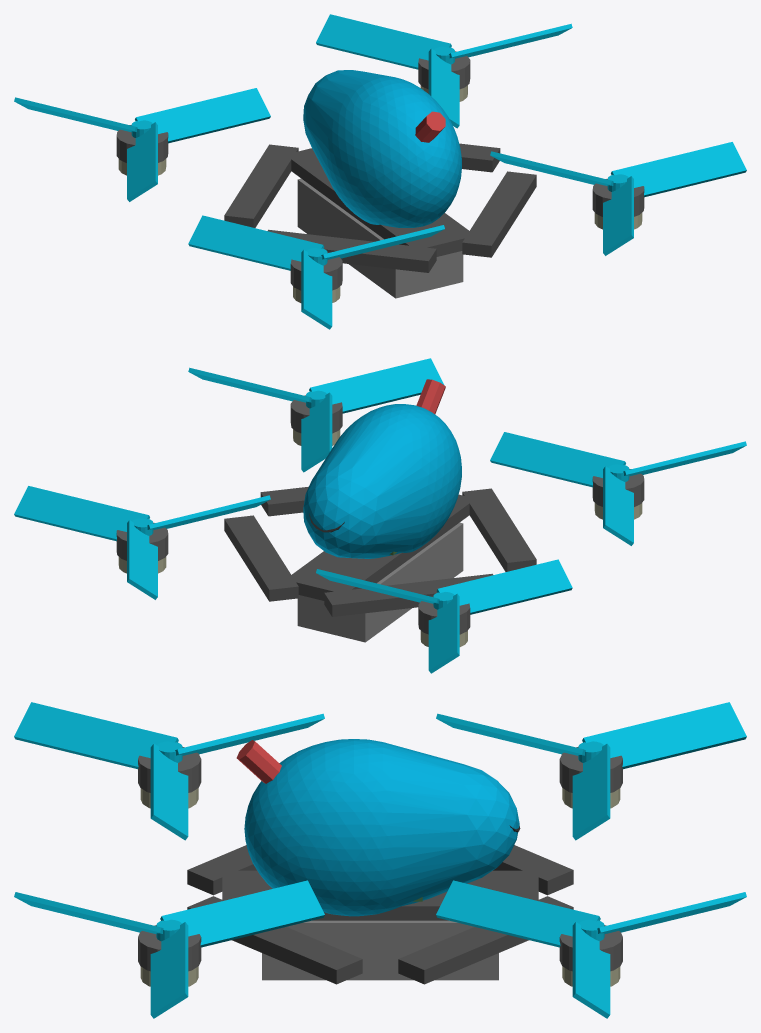
The picture shows the model from 3 angles, top to bottom: view 1: azimuth 30°, elevation 25°; view 2: azimuth 150°, elevation 25°; view 3: azimuth 270°, elevation 25°; orthographic projection. The views are drawn at different scales.
Parts seen in each view (by area): view 1: mat_plastic_canopy, mat_carbon_frame, prop_mat_plastic_1, prop_mat_plastic_2, prop_mat_plastic_0, prop_mat_plastic_3, mat_batt_body, mat_metal_bell_1, mat_metal_bell_3, mat_metal_bell_0, mat_metal_bell_2, mat_plastic_antennatip; view 2: mat_plastic_canopy, mat_carbon_frame, prop_mat_plastic_2, prop_mat_plastic_1, prop_mat_plastic_3, prop_mat_plastic_0, mat_batt_body, mat_metal_bell_2, mat_metal_bell_0, mat_metal_bell_3, mat_metal_bell_1, mat_plastic_antennatip; view 3: mat_plastic_canopy, mat_carbon_frame, prop_mat_plastic_0, prop_mat_plastic_3, prop_mat_plastic_2, prop_mat_plastic_1, mat_batt_body, mat_metal_bell_0, mat_metal_bell_1, mat_metal_bell_2, mat_metal_bell_3, mat_plastic_antennatip.
Boxes of the visible parts, x1=… form: mat_plastic_canopy: x1=303, y1=70, x2=461, y2=227; mat_carbon_frame: x1=224, y1=143, x2=536, y2=272; prop_mat_plastic_1: x1=188, y1=215, x2=444, y2=329; prop_mat_plastic_2: x1=14, y1=88, x2=270, y2=201; prop_mat_plastic_0: x1=490, y1=142, x2=746, y2=255; prop_mat_plastic_3: x1=316, y1=14, x2=572, y2=128; mat_batt_body: x1=297, y1=178, x2=463, y2=298; mat_metal_bell_1: x1=290, y1=252, x2=342, y2=290; mat_metal_bell_3: x1=418, y1=51, x2=470, y2=89; mat_metal_bell_0: x1=592, y1=178, x2=644, y2=216; mat_metal_bell_2: x1=116, y1=125, x2=168, y2=162; mat_plastic_antennatip: x1=415, y1=111, x2=445, y2=142; mat_plastic_canopy: x1=303, y1=404, x2=461, y2=558; mat_carbon_frame: x1=224, y1=486, x2=536, y2=616; prop_mat_plastic_2: x1=316, y1=559, x2=572, y2=673; prop_mat_plastic_1: x1=490, y1=432, x2=746, y2=545; prop_mat_plastic_3: x1=14, y1=486, x2=270, y2=599; prop_mat_plastic_0: x1=188, y1=358, x2=443, y2=472; mat_batt_body: x1=297, y1=522, x2=463, y2=642; mat_metal_bell_2: x1=418, y1=596, x2=470, y2=634; mat_metal_bell_0: x1=290, y1=395, x2=342, y2=433; mat_metal_bell_3: x1=116, y1=522, x2=168, y2=560; mat_metal_bell_1: x1=592, y1=469, x2=644, y2=506; mat_plastic_antennatip: x1=416, y1=379, x2=445, y2=414; mat_plastic_canopy: x1=244, y1=739, x2=519, y2=916; mat_carbon_frame: x1=187, y1=845, x2=573, y2=984; prop_mat_plastic_0: x1=14, y1=880, x2=324, y2=1018; prop_mat_plastic_3: x1=436, y1=880, x2=746, y2=1018; prop_mat_plastic_2: x1=436, y1=702, x2=746, y2=840; prop_mat_plastic_1: x1=14, y1=702, x2=324, y2=840; mat_batt_body: x1=262, y1=920, x2=498, y2=980; mat_metal_bell_0: x1=138, y1=925, x2=201, y2=971; mat_metal_bell_1: x1=138, y1=747, x2=201, y2=792; mat_metal_bell_2: x1=559, y1=747, x2=622, y2=792; mat_metal_bell_3: x1=559, y1=925, x2=622, y2=971; mat_plastic_antennatip: x1=236, y1=740, x2=281, y2=783.
Bounding box in the file's own units: 0.1311 × 0.0458 × 0.139.
